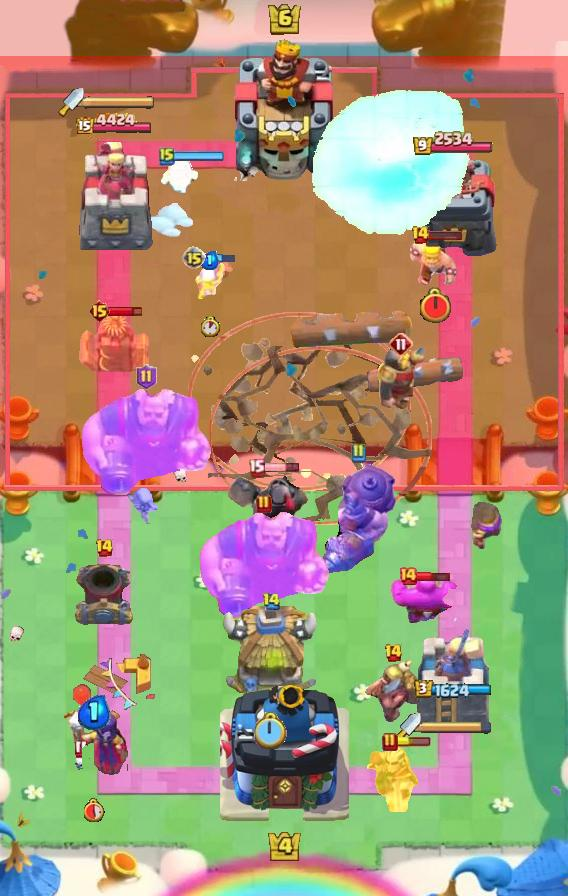archer: (403, 239, 467, 285)
axe: (60, 708, 128, 776)
bandit: (364, 658, 422, 726)
bar: (73, 140, 155, 256), (414, 623, 492, 731)
bat: (159, 155, 201, 197)
bomb-tower: (464, 492, 506, 554)
electro-spirit: (77, 695, 111, 729), (201, 251, 219, 270)
elixir: (419, 287, 454, 325), (255, 711, 287, 749), (83, 798, 105, 822), (200, 315, 219, 336)
emote: (173, 151, 224, 161), (108, 305, 144, 318), (417, 569, 452, 582), (427, 229, 463, 241), (264, 462, 301, 473), (395, 737, 431, 747), (204, 252, 236, 263)
firecracker: (378, 348, 427, 408)
goblin-brawler: (79, 307, 149, 375)
guard: (188, 313, 412, 492), (208, 346, 432, 525)
heal-spirit: (120, 484, 161, 524), (194, 263, 226, 299)
king-tower: (219, 678, 349, 826), (228, 35, 340, 181)
king-tower-bar: (84, 95, 156, 109), (421, 720, 493, 734)
lightning: (74, 386, 217, 500), (193, 509, 336, 623)
mega-knight: (307, 89, 473, 239)
minion: (287, 305, 415, 351), (365, 355, 467, 403)
musketeer: (73, 561, 135, 629)
prince: (220, 606, 322, 702)
queen-tower: (409, 158, 500, 256)
royal-guardian: (225, 470, 317, 552)
selected: (412, 131, 494, 157), (75, 112, 153, 137), (414, 679, 492, 699)
skeleton-king: (363, 746, 437, 812)
text: (182, 246, 206, 270), (389, 332, 413, 356), (88, 299, 111, 323), (135, 364, 156, 390), (398, 566, 418, 586), (384, 643, 404, 663), (411, 225, 430, 245), (95, 538, 114, 558), (262, 593, 281, 611), (247, 458, 264, 477), (159, 146, 175, 166), (350, 443, 366, 463), (256, 494, 272, 514), (382, 732, 398, 752)
tornado: (390, 573, 458, 625)
wizard: (317, 462, 399, 576)
